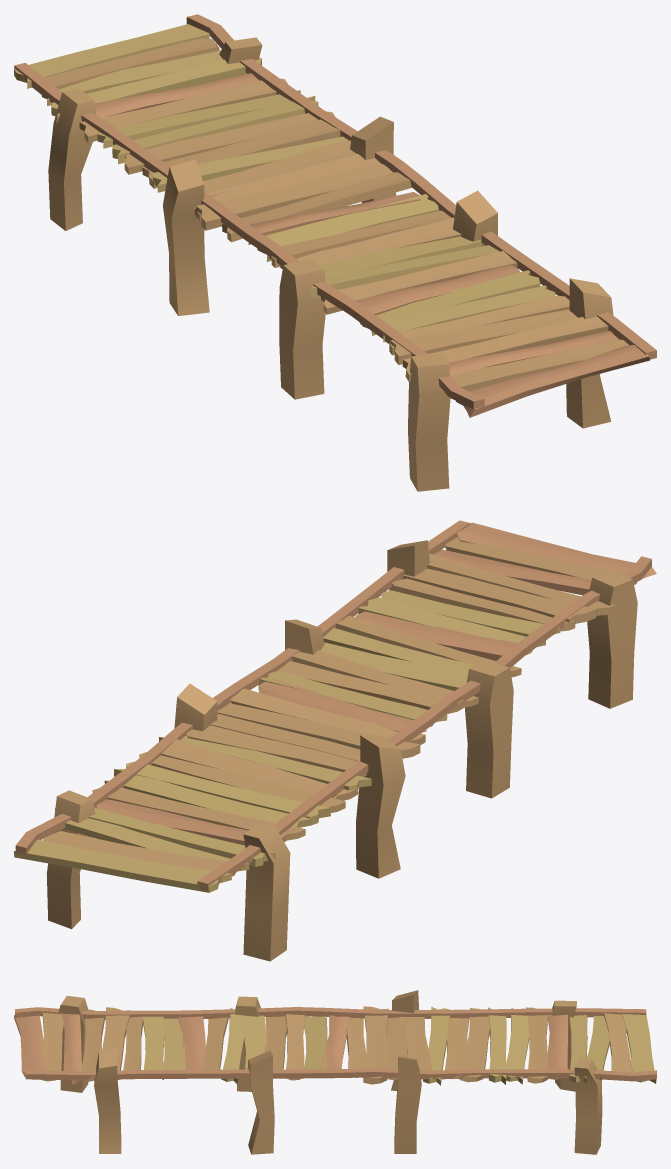
Rendered from bridge.obj.
The picture shows the model from 3 angles, top to bottom: view 1: azimuth 30°, elevation 25°; view 2: azimuth 150°, elevation 25°; view 3: azimuth 270°, elevation 25°; orthographic projection. The views are drawn at different scales.
Visible parts, largest first — view 1: Boat_Dock; view 2: Boat_Dock; view 3: Boat_Dock.
Part boxes in pixels (bbox=[...]): Boat_Dock: bbox=[14, 14, 656, 491]; Boat_Dock: bbox=[14, 520, 656, 961]; Boat_Dock: bbox=[14, 990, 656, 1154].
Bounding box in the file's own units: 4.43 × 2.63 × 15.9.
